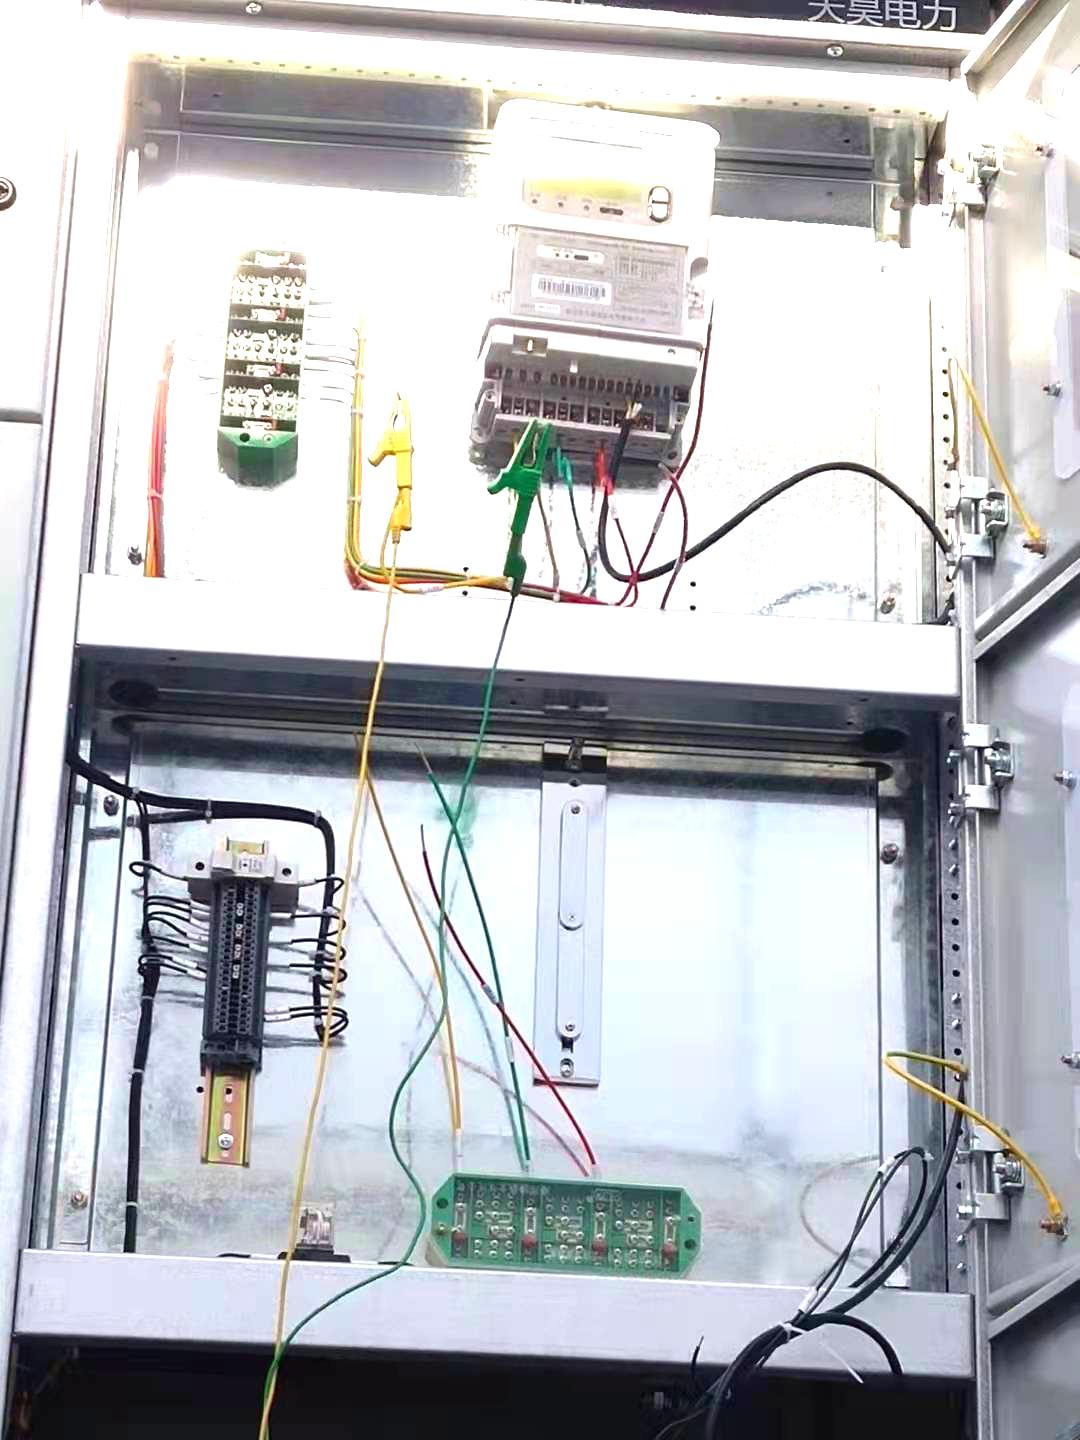digital: (490, 99, 715, 369)
